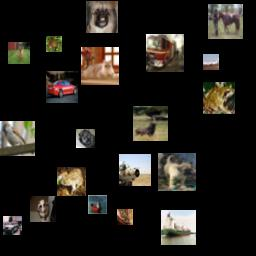airplane: (119, 154, 151, 186), (203, 54, 219, 70)
automobile: (46, 71, 78, 103), (3, 216, 22, 235)
bird: (0, 121, 35, 156)
cat: (81, 47, 119, 85)
deer: (133, 106, 168, 141)
dog: (158, 153, 196, 191), (86, 1, 118, 33), (30, 196, 56, 222), (8, 42, 30, 64), (76, 129, 95, 148)
frog: (203, 82, 235, 114), (57, 167, 86, 196), (117, 209, 133, 225), (46, 36, 62, 52)
ship: (161, 210, 196, 245), (88, 195, 107, 214)
truck: (146, 34, 184, 72)
